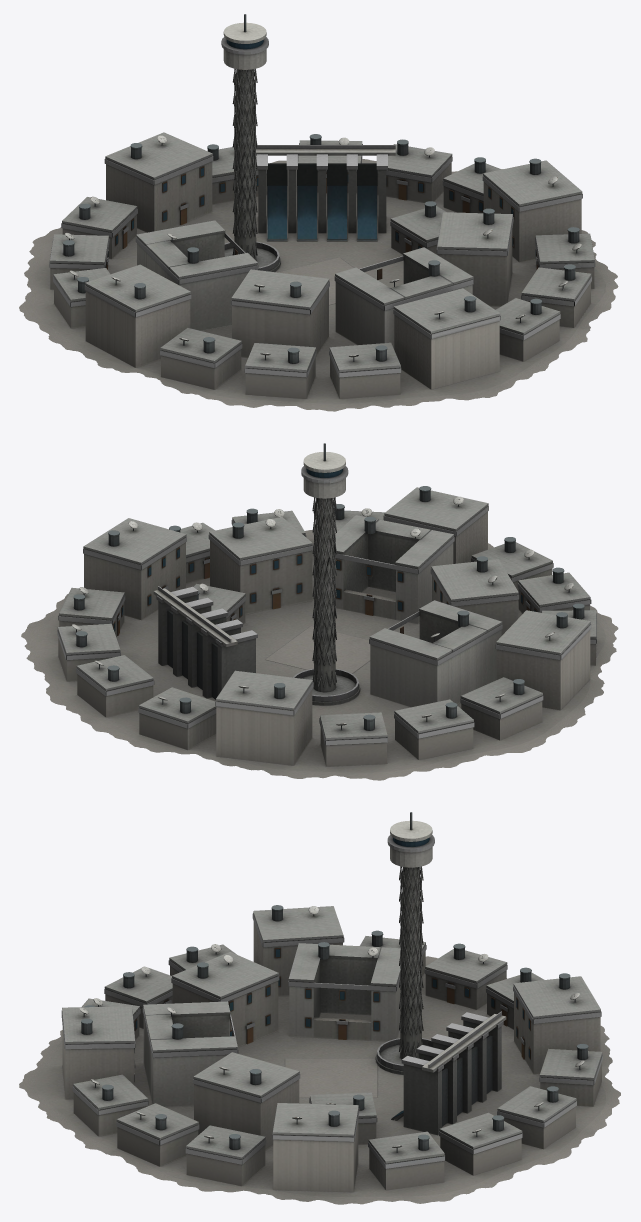
The model's file is modern-town-big-a-nile.glb.
3 views of the same model, one above another, from view 1: azimuth 30°, elevation 25°; view 2: azimuth 150°, elevation 25°; view 3: azimuth 270°, elevation 25° (orthographic).
Visible parts, largest first — view 1: LOD0; view 2: LOD0; view 3: LOD0.
Part boxes in pixels (x1,y1,x2,y2): LOD0: (19, 14, 618, 411); LOD0: (21, 443, 618, 780); LOD0: (19, 812, 620, 1204).
Size of what is drawn, in the model's own units: 7.92 by 3.6 by 8.
3 materials, 3 textured.
